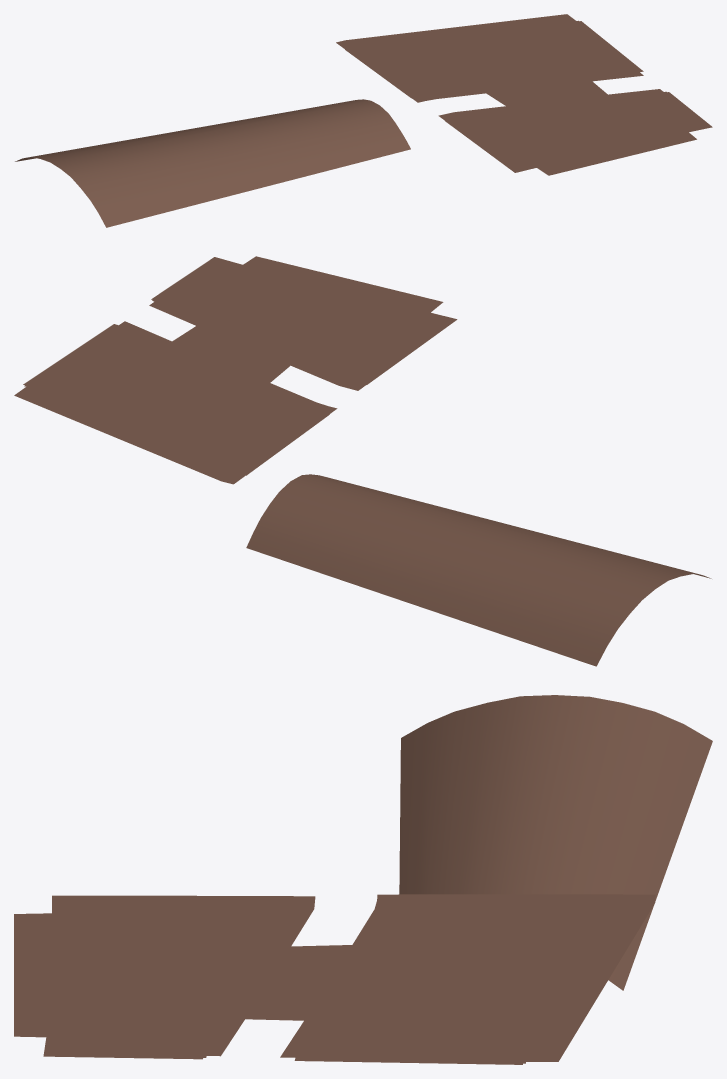
File: Plan_14_-_20.02_Decken.glb
The picture shows the model from 3 angles, top to bottom: view 1: azimuth 30°, elevation 25°; view 2: azimuth 150°, elevation 25°; view 3: azimuth 270°, elevation 25°; orthographic projection. The views are drawn at different scales.
Visible parts, largest first — view 1: Decke Main und Bar, Decke Eingang; view 2: Decke Main und Bar, Decke Eingang; view 3: Decke Main und Bar, Decke Eingang.
Part boxes in pixels (bbox=[...]): Decke Main und Bar: bbox=[336, 14, 712, 175]; Decke Eingang: bbox=[15, 99, 410, 227]; Decke Main und Bar: bbox=[14, 256, 457, 484]; Decke Eingang: bbox=[246, 474, 711, 666]; Decke Main und Bar: bbox=[14, 894, 655, 1064]; Decke Eingang: bbox=[399, 695, 712, 990].
Size of the model in its own units: 32.92 by 3.55 by 23.08.
